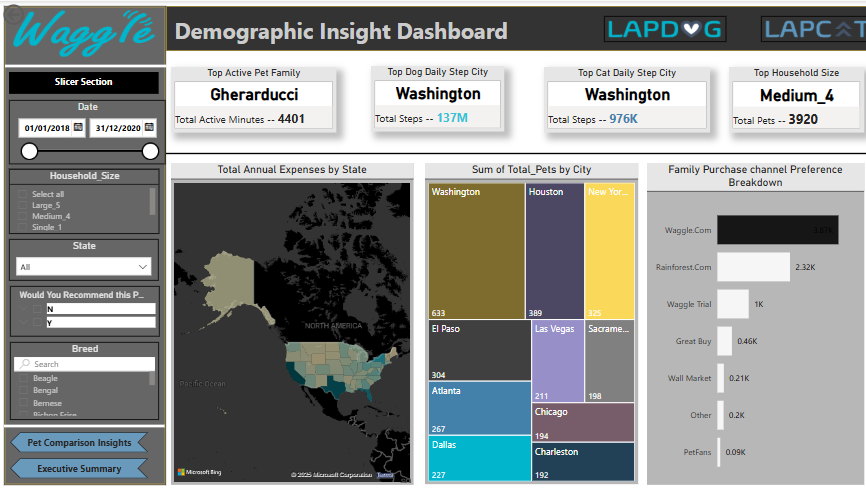

What the dashboard file says about the page in this screenshot:
{"tool":"powerbi","page":{"name":"Demographic Insights","canvas":[1280,720],"ordinal":2},"visuals":[{"type":"shape","box":[5.9,7.3,237.1,701],"z":0},{"type":"shape","box":[242.9,7.3,1030.2,65.9],"z":1000},{"type":"image","title":"Lapdog Image Exec","box":[883.9,22,178.5,38],"z":2000},{"type":"treemap","fields":{"Group":["Family_Data.City"],"Values":["Sum(Family_Data.Total_Pets)"]},"box":[622,237.1,311.7,469.8],"z":3000},{"type":"filledMap","fields":{"Category":["Family_Data.State Hierarchy.State"]},"box":[249.9,237.3,354.6,471],"z":4000},{"type":"shape","box":[242.9,212.2,1037.6,22],"z":5000},{"type":"image","box":[1113.7,22,166.8,38],"z":6000},{"type":"cardVisual","title":"Top Active Pet Family","fields":{"Data":["01_Dax Measures.Top Active Pet Family ID"]},"box":[250,95.9,242.2,95.9],"z":7000},{"type":"barChart","title":"Family Purchase channel Preference Breakdown","fields":{"Category":["Rating_Data.Where Did You Buy This Product?"],"Y":["Count(Tracker_Data.Family_ID)"]},"box":[946.8,237.1,317.6,471.2],"z":8000},{"type":"image","box":[12.7,6.8,218.9,80.1],"z":9000},{"type":"shape","box":[6.8,87,236.5,17.6],"z":10000},{"type":"shape","box":[5.9,612.6,235.5,17.6],"z":11000},{"type":"pageNavigator","title":"Page navigator1","box":[14.7,668.3,203.2,30.3],"z":12000},{"type":"textbox","box":[12.7,104.5,218.9,32.2],"z":13000},{"type":"slicer","title":"Date","fields":{"Values":["Date_Table.Date"]},"box":[12.7,145.6,228.6,93.8],"z":14000},{"type":"slicer","title":"Household_Size","fields":{"Values":["Family_Data.Household Category"]},"box":[13.7,246.2,219.8,94.8],"z":15000},{"type":"slicer","title":"Slicer Would you Recommend","fields":{"Values":["Rating_Data.Would You Recommend this Product?","Rating_Data.Where Did You Buy This Product?"]},"box":[14.7,417.2,218.9,74.3],"z":16000},{"type":"slicer","title":"State","fields":{"Values":["Family_Data.State"]},"box":[13.7,347.8,218.9,60.6],"z":17000},{"type":"cardVisual","title":"Top Dog Daily Step City","fields":{"Data":["02_Demographic Measures.Top Dog City"]},"box":[542.3,95.5,195.5,96.4],"z":18000},{"type":"cardVisual","title":"Top Cat Daily Step City","fields":{"Data":["02_Demographic Measures.Top Cat City"]},"box":[796.5,95.9,243.2,95.9],"z":19000},{"type":"cardVisual","title":"Top  Household Size ","fields":{"Data":["02_Demographic Measures.Top Household Size Category"]},"box":[1066.8,95.9,197.7,95.9],"z":20000},{"type":"textbox","box":[250.2,16.1,622,57.1],"z":21000},{"type":"slicer","title":"Breed","fields":{"Values":["Pet_Data.Breed"]},"box":[14.7,498.3,217.9,114.3],"z":22000},{"type":"pageNavigator","title":"Page navigator1","box":[14.7,630.2,203.2,30.3],"z":23000},{"type":"actionButton","box":[0,0,100,40],"z":24000}]}

Visuals, with their boxes in screenshot pixels (x1, y1, x2, y2), scaled from the page's 1280x720 canvas onto the 866x488 screenshot:
shape: (4, 5, 164, 480)
shape: (164, 5, 861, 50)
"Lapdog Image Exec" image: (598, 15, 719, 41)
treemap - Family_Data.City x Sum(Family_Data.Total_Pets): (421, 161, 632, 479)
filledMap - Family_Data.State Hierarchy.State: (169, 161, 409, 480)
shape: (164, 144, 865, 159)
image: (753, 15, 865, 41)
"Top Active Pet Family" cardVisual: (169, 65, 333, 130)
"Family Purchase channel Preference Breakdown" barChart: (641, 161, 855, 480)
image: (9, 5, 157, 59)
shape: (5, 59, 165, 71)
shape: (4, 415, 163, 427)
"Page navigator1" pageNavigator: (10, 453, 147, 473)
textbox: (9, 71, 157, 93)
"Date" slicer: (9, 99, 163, 162)
"Household_Size" slicer: (9, 167, 158, 231)
"Slicer Would you Recommend" slicer: (10, 283, 158, 333)
"State" slicer: (9, 236, 157, 277)
"Top Dog Daily Step City" cardVisual: (367, 65, 499, 130)
"Top Cat Daily Step City" cardVisual: (539, 65, 703, 130)
"Top  Household Size " cardVisual: (722, 65, 856, 130)
textbox: (169, 11, 590, 50)
"Breed" slicer: (10, 338, 157, 415)
"Page navigator1" pageNavigator: (10, 427, 147, 448)
actionButton: (0, 0, 68, 27)
